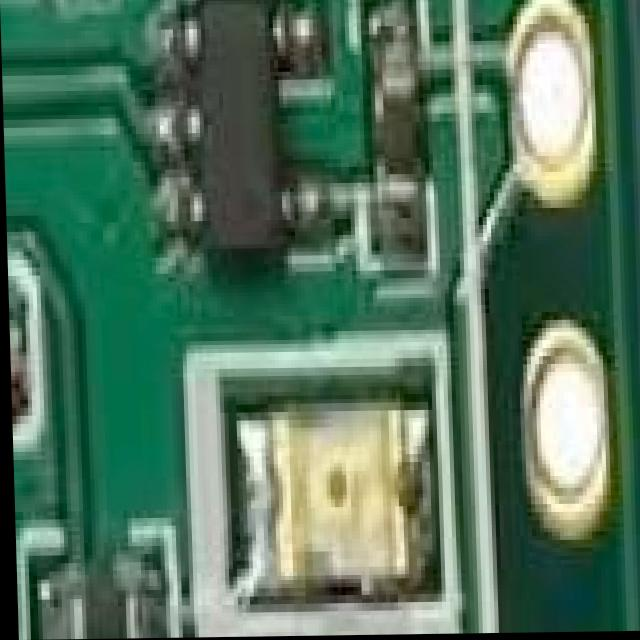IC: (172, 4, 322, 262)
LED: (223, 389, 430, 590)
resistor: (374, 67, 421, 212), (57, 579, 139, 639)
